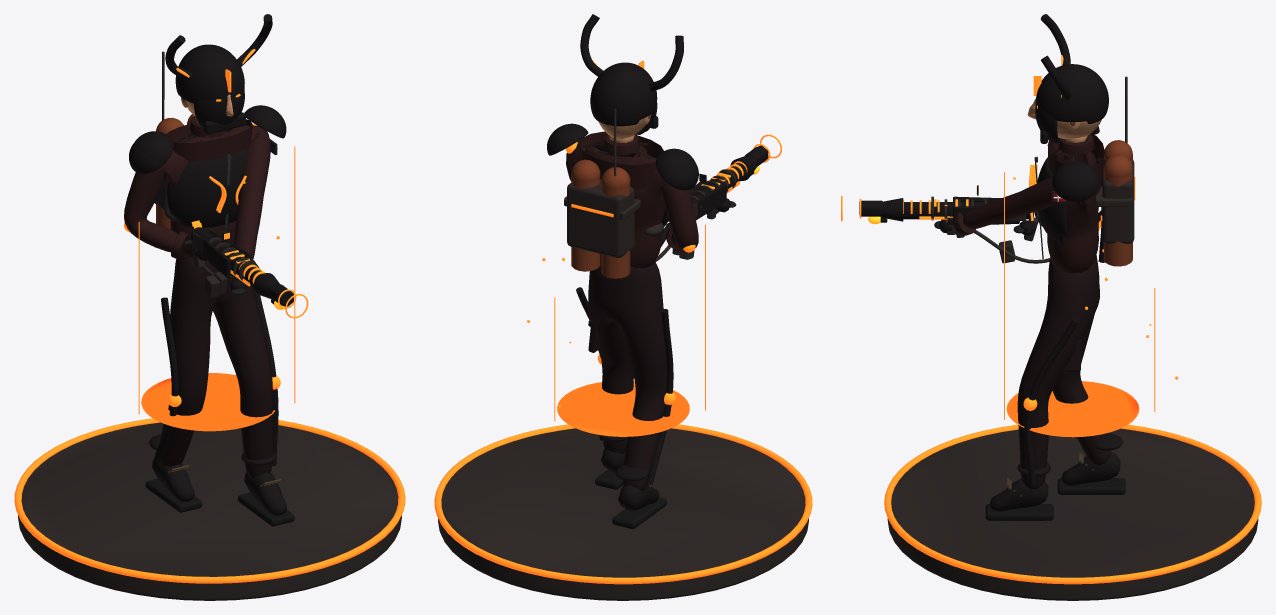
The model's file is braender_lava.glb.
The picture shows the model from 3 angles, left to right: view 1: azimuth 30°, elevation 25°; view 2: azimuth 150°, elevation 25°; view 3: azimuth 270°, elevation 25°; orthographic projection. The views are drawn at different scales.
Parts seen in each view (by area): view 1: fod_net, menneske_net, hoved_net, op2.001_net, op4.002_net, op4.001_net, vaaben_net, op1.001_net, op3.001_net, op4_net, ned3_net; view 2: fod_net, menneske_net, hoved_net, op3.001_net, op4.002_net, op4.001_net, op1.001_net, vaaben_net, op2.001_net, ned3_net, op4_net; view 3: fod_net, menneske_net, hoved_net, op4.002_net, op2.001_net, op3.001_net, op4.001_net, op1.001_net, vaaben_net.
Part boxes in pixels (x1=…): fod_net: x1=14, y1=418, x2=405, y2=600; menneske_net: x1=124, y1=114, x2=294, y2=526; hoved_net: x1=165, y1=14, x2=272, y2=134; op2.001_net: x1=167, y1=105, x2=286, y2=484; op4.002_net: x1=138, y1=146, x2=295, y2=431; op4.001_net: x1=124, y1=123, x2=280, y2=465; vaaben_net: x1=186, y1=234, x2=293, y2=309; op1.001_net: x1=190, y1=227, x2=263, y2=283; op3.001_net: x1=134, y1=51, x2=173, y2=210; op4_net: x1=191, y1=220, x2=308, y2=318; ned3_net: x1=129, y1=142, x2=222, y2=210; fod_net: x1=434, y1=424, x2=812, y2=600; menneske_net: x1=566, y1=131, x2=736, y2=529; hoved_net: x1=580, y1=14, x2=683, y2=139; op3.001_net: x1=567, y1=109, x2=694, y2=257; op4.002_net: x1=527, y1=224, x2=705, y2=436; op4.001_net: x1=566, y1=142, x2=695, y2=484; op1.001_net: x1=655, y1=163, x2=746, y2=261; vaaben_net: x1=660, y1=145, x2=768, y2=247; op2.001_net: x1=547, y1=123, x2=668, y2=226; ned3_net: x1=660, y1=162, x2=698, y2=190; op4_net: x1=681, y1=134, x2=781, y2=259; fod_net: x1=884, y1=424, x2=1261, y2=600; menneske_net: x1=934, y1=133, x2=1132, y2=520; hoved_net: x1=1027, y1=14, x2=1108, y2=143; op4.002_net: x1=1004, y1=172, x2=1178, y2=437; op2.001_net: x1=1006, y1=151, x2=1099, y2=487; op3.001_net: x1=1091, y1=76, x2=1135, y2=243; op4.001_net: x1=1023, y1=158, x2=1105, y2=485; op1.001_net: x1=904, y1=196, x2=1050, y2=263; vaaben_net: x1=859, y1=198, x2=1101, y2=241.
Bounding box in the file's own units: 1.94 × 2.76 × 2.16.
